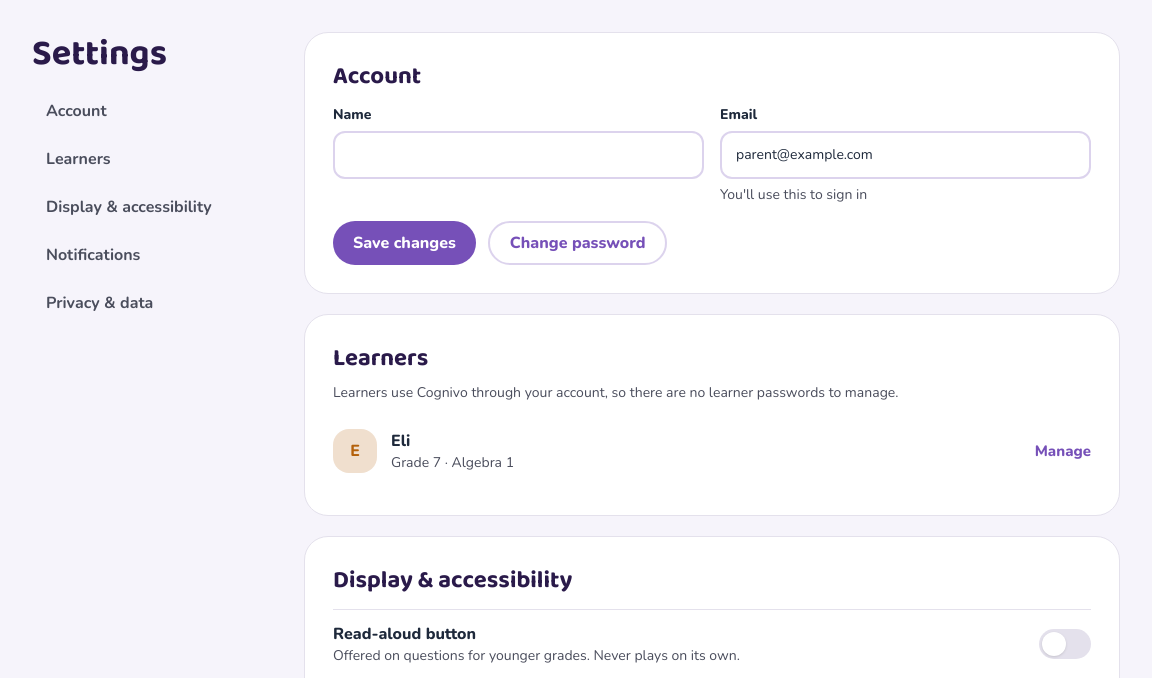
Test: GuardianSettingsPage › saves account name/email edits and reflects the persisted response
In the field labelled "Name": (518, 155) [333,131,704,179], type "Dana"
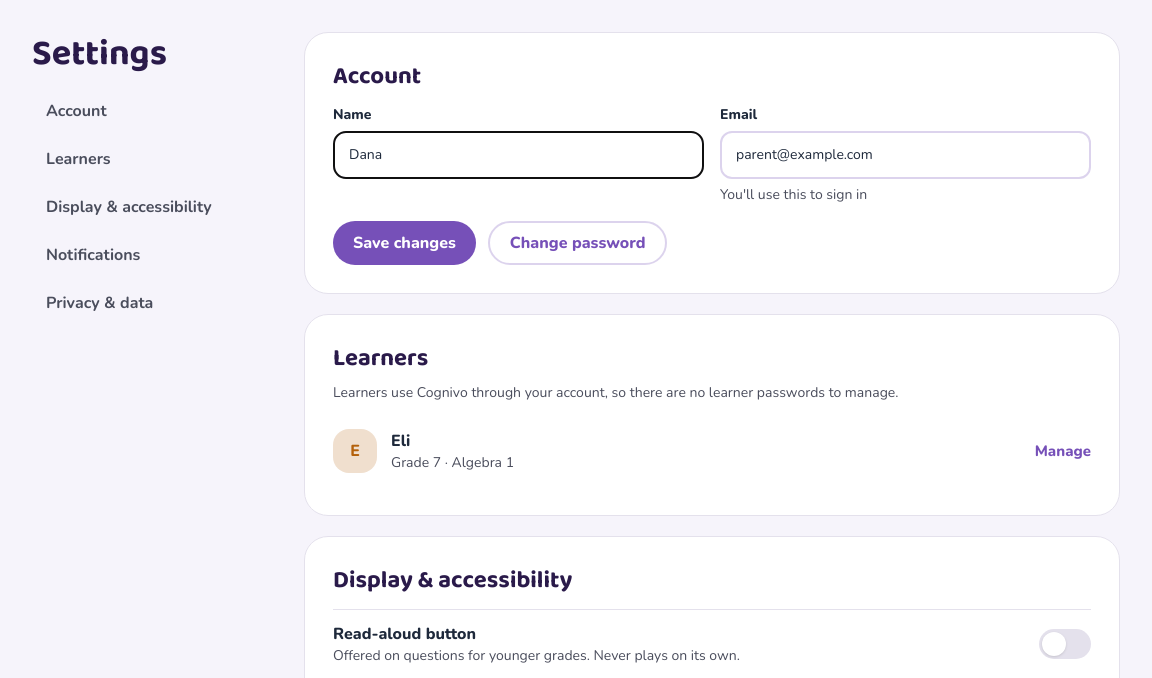
Click the button "Save changes": (404, 243) [333,221,476,265]
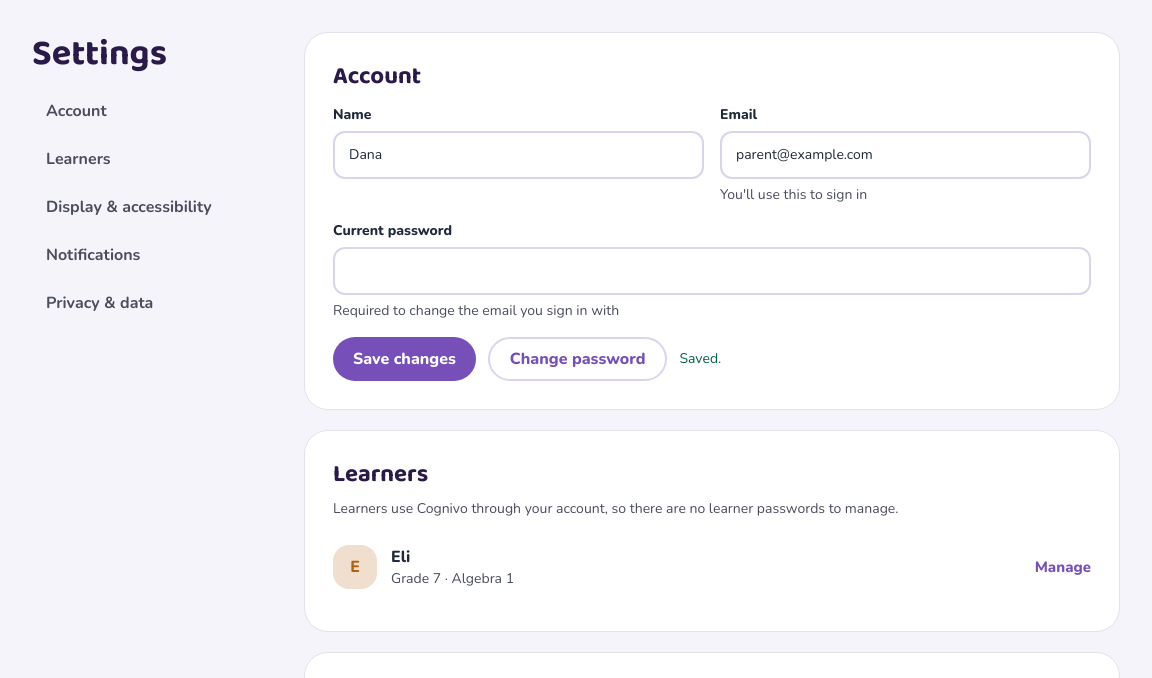
Expected: the text "Saved." is shown, [679,349,721,369]
